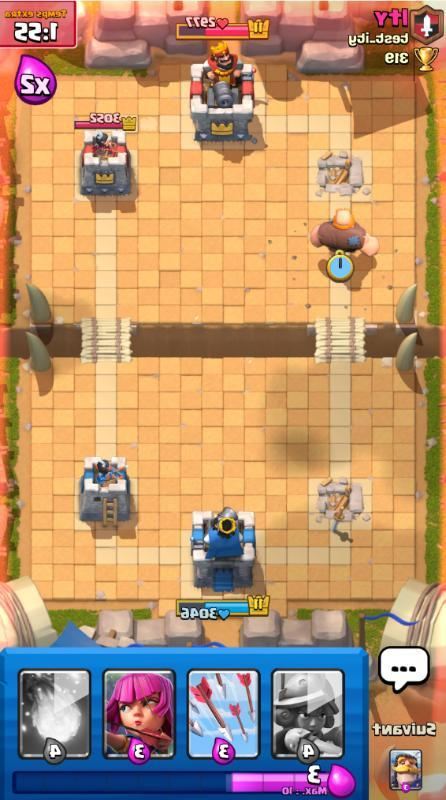geant: (310, 208, 379, 258)
